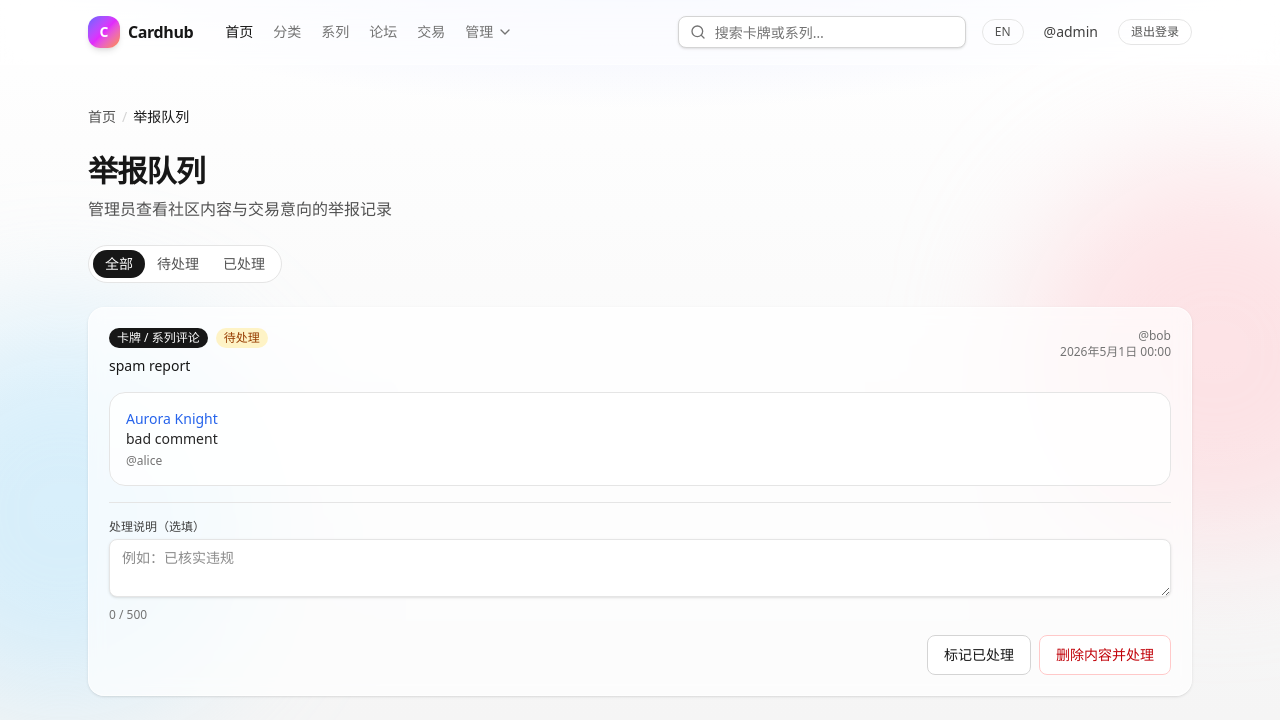
Scenario: ReportsListPage resolution controls › shows forbidden resolve failures and keeps the resolution note
Type "稍后人工复核" into the text box labelled "处理说明（选填）" at (640, 568), box [109,539,1171,597]
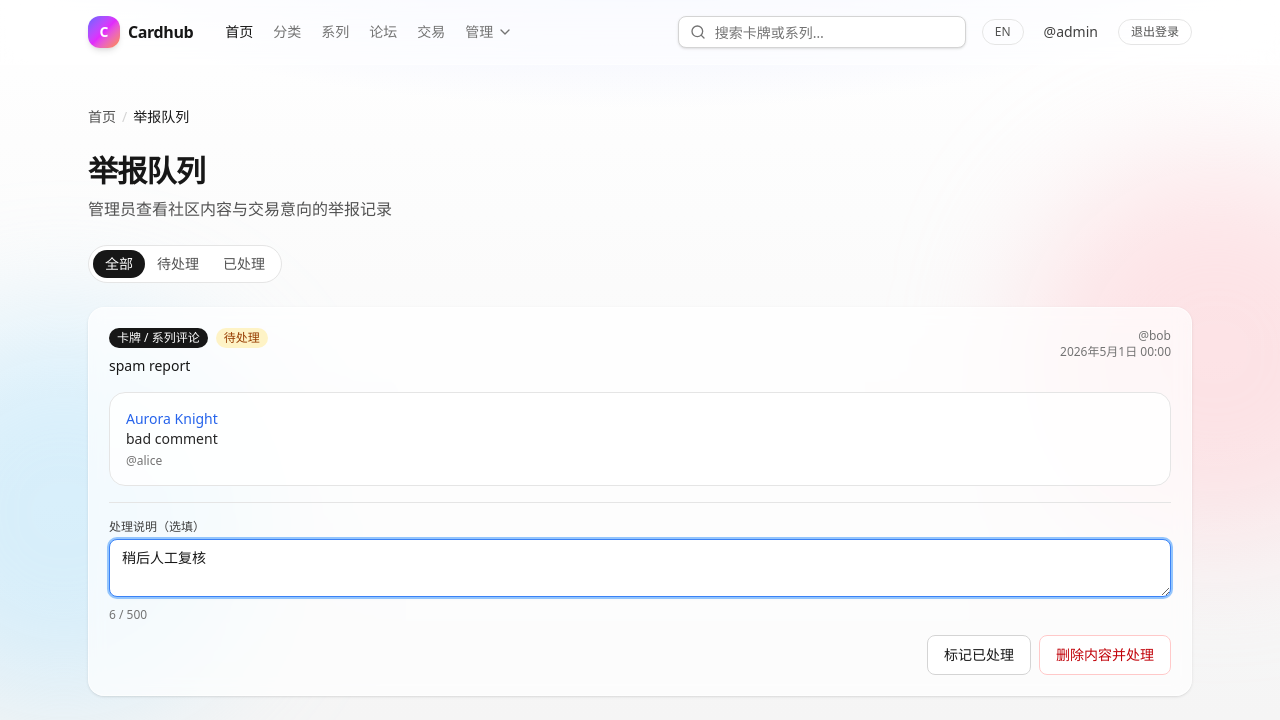
Click the button "标记已处理" at (979, 655), box [927,635,1031,675]
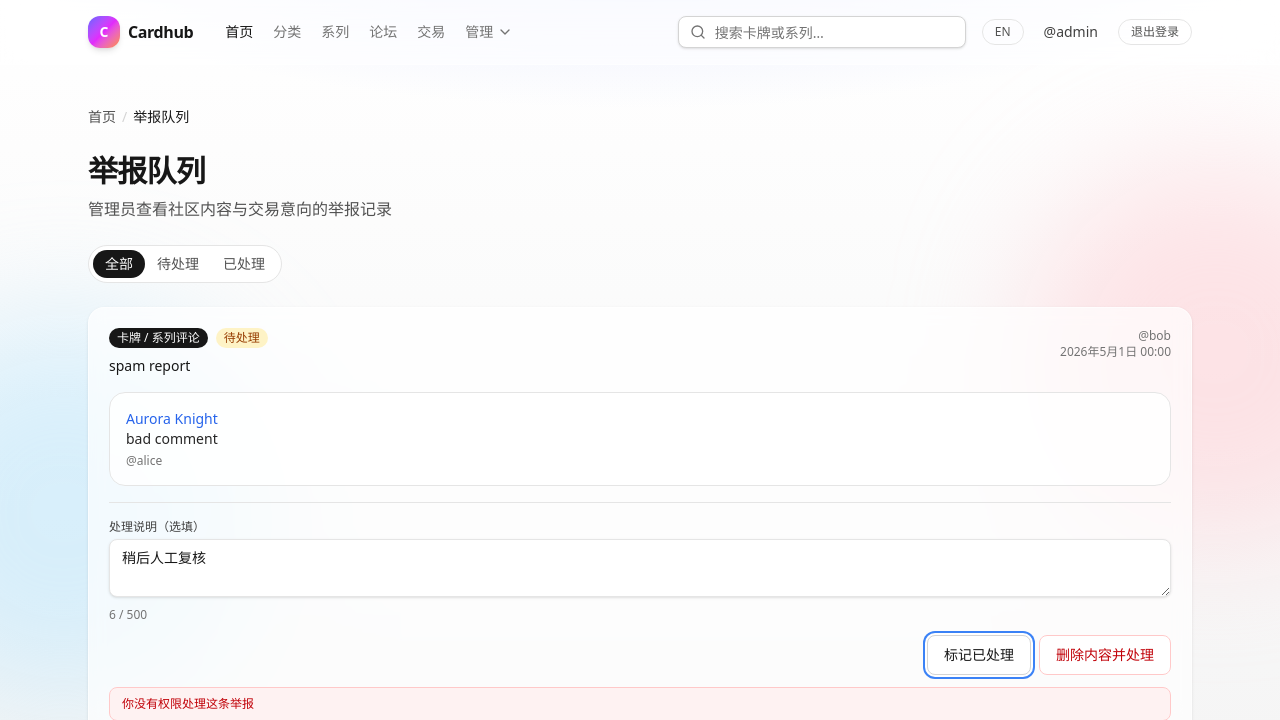
Expected: the message reads "你没有权限处理这条举报", [122,695,254,712]
